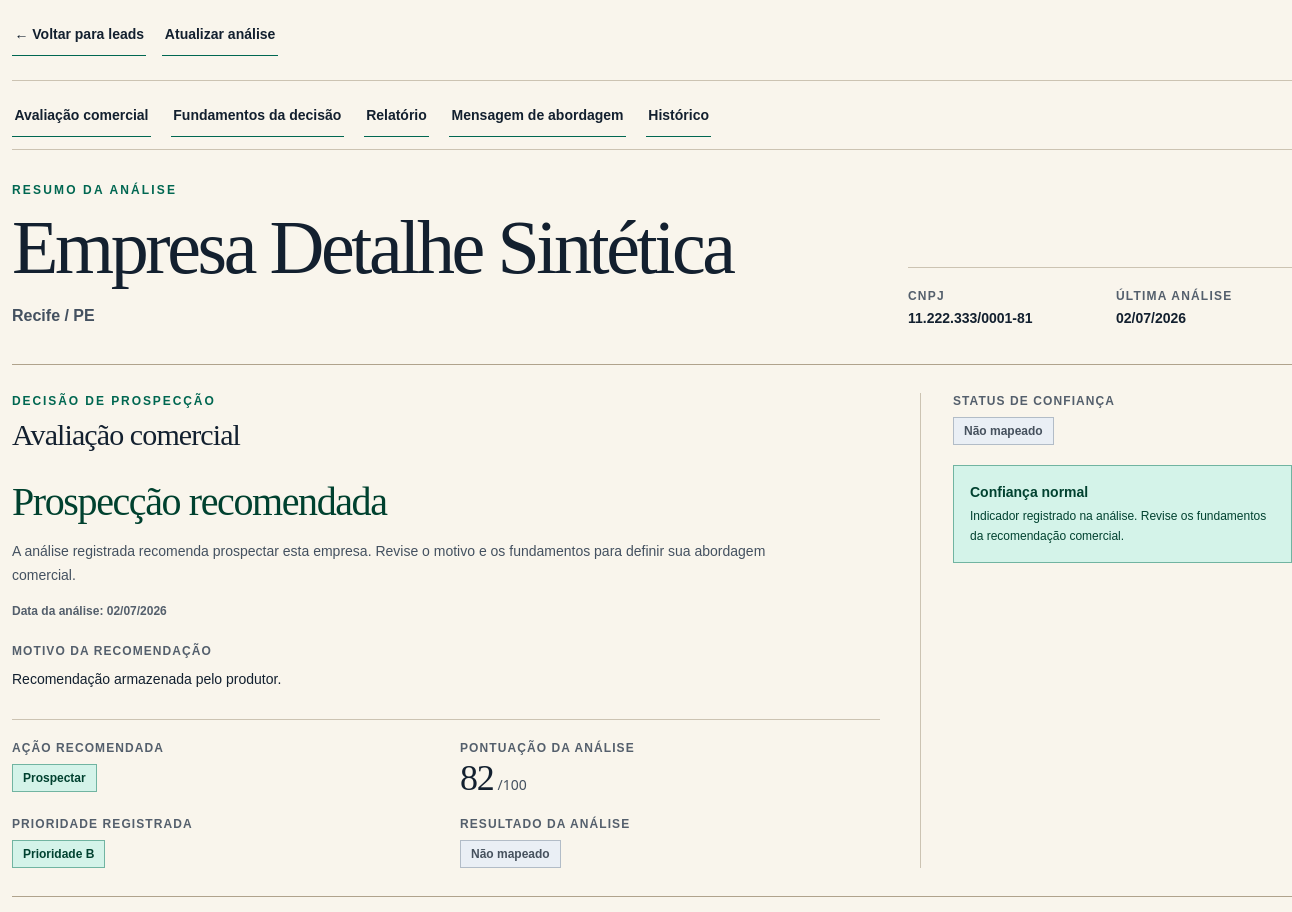
Test case: lead detail page › clears the last analysis when an update returns an invalid contract
Expected: the heading "Empresa Detalhe Sintética" is shown, [12, 210, 772, 284]
Click the button "Atualizar análise". click: (220,34)
box: [162, 12, 278, 56]
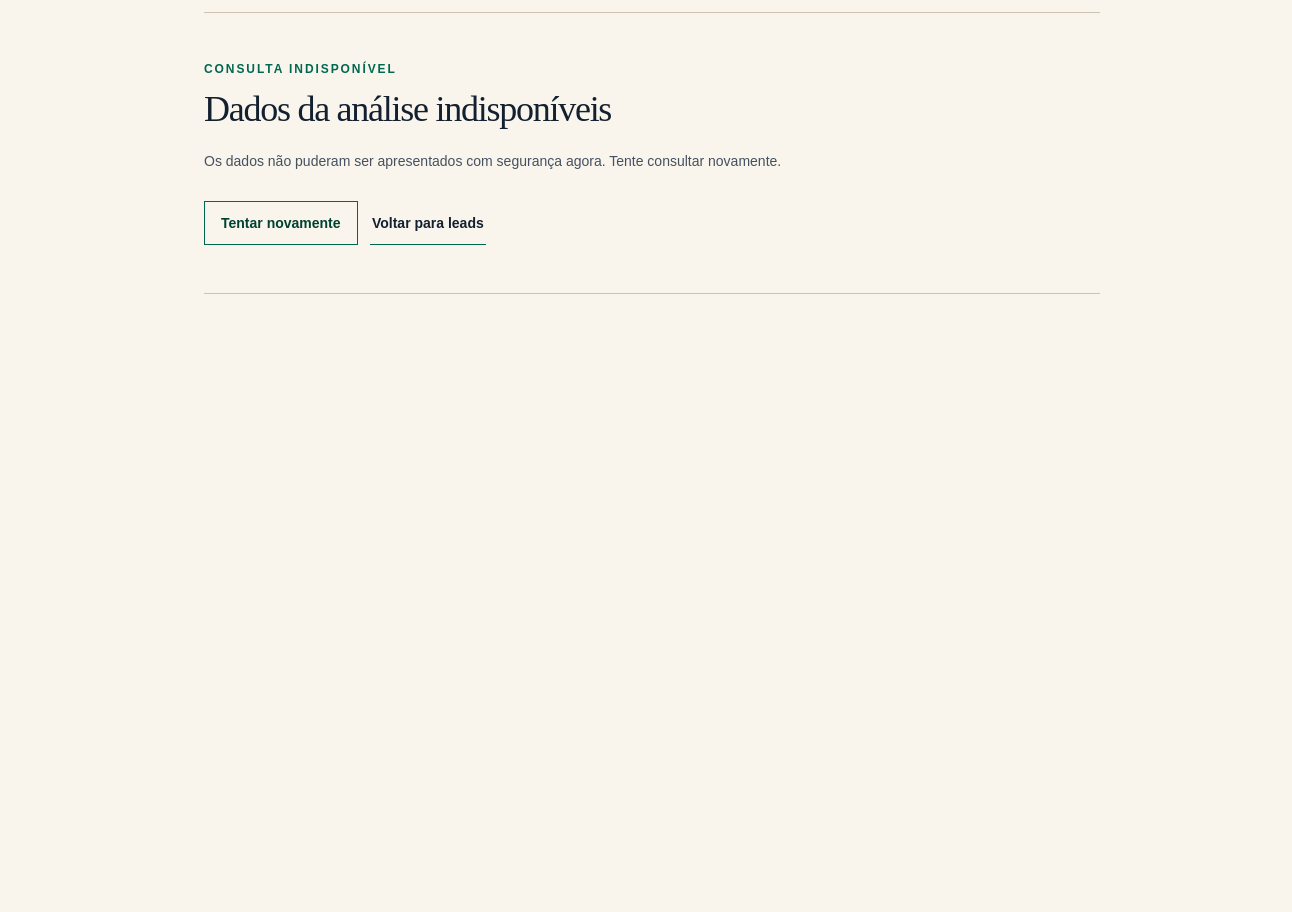
Expected: the heading "Dados da análise indisponíveis" is shown, [204, 89, 611, 129]
Expected: the heading "Empresa Detalhe Sintética" is gone
